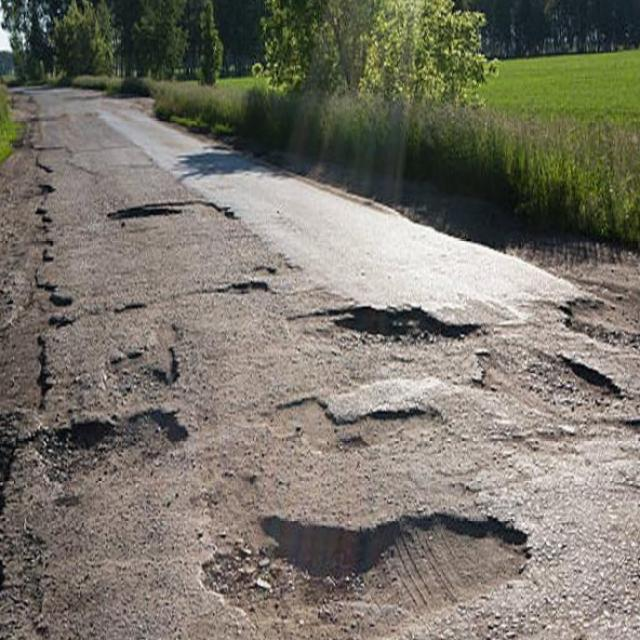Lubang: (208, 519, 525, 639), (46, 408, 184, 487), (306, 306, 467, 364), (482, 348, 618, 416), (106, 341, 177, 397), (115, 200, 230, 234)
Pinggir: (0, 173, 73, 558)
